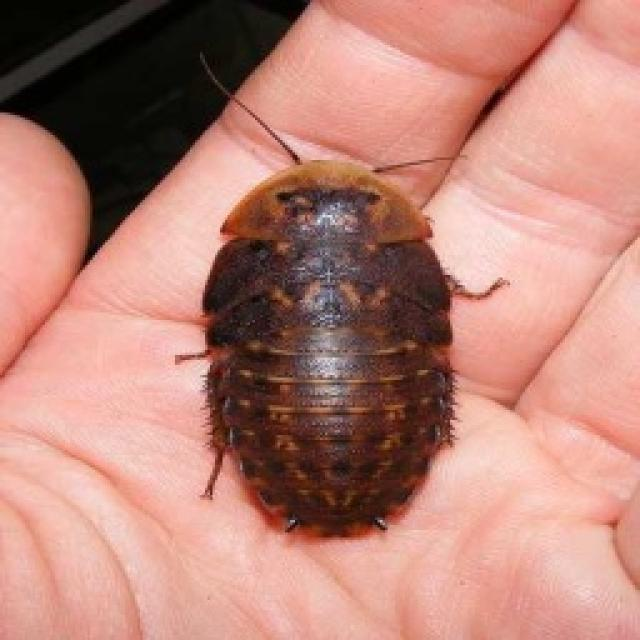cockroach: (186, 120, 484, 550)
